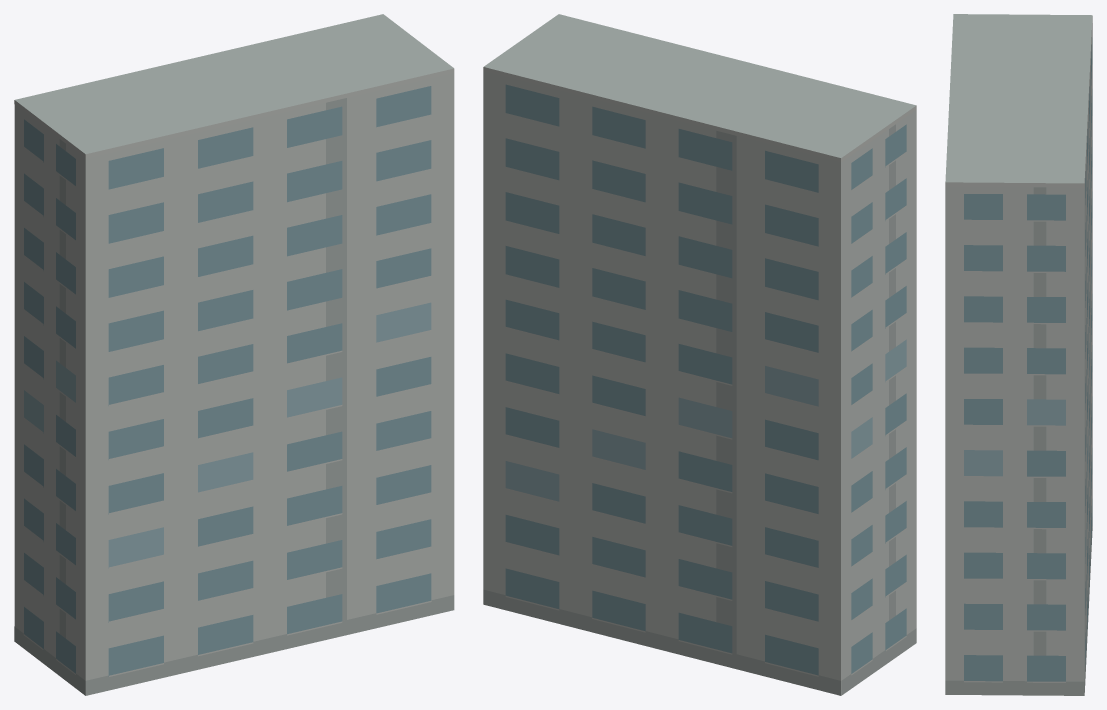
Rendered from residential-b9d12c23-d2d2-41ed-aab2-a0ac502898e3.glb.
3 views of the same model, side by side, from view 1: azimuth 30°, elevation 25°; view 2: azimuth 150°, elevation 25°; view 3: azimuth 270°, elevation 25° (orthographic). The views are drawn at different scales.
Visible parts, largest first — view 1: residential-b9d12c23-d2d2-41ed-aab2-a0ac502898e3.tmp; view 2: residential-b9d12c23-d2d2-41ed-aab2-a0ac502898e3.tmp; view 3: residential-b9d12c23-d2d2-41ed-aab2-a0ac502898e3.tmp.
Part boxes in pixels (<box>): residential-b9d12c23-d2d2-41ed-aab2-a0ac502898e3.tmp: <box>14,14,454,695</box>; residential-b9d12c23-d2d2-41ed-aab2-a0ac502898e3.tmp: <box>483,14,916,695</box>; residential-b9d12c23-d2d2-41ed-aab2-a0ac502898e3.tmp: <box>945,14,1092,695</box>.
Bounding box in the file's own units: 21.28 × 30 × 7.82.
